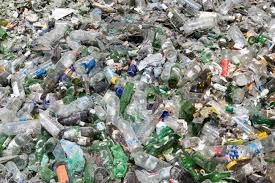glass: (102, 93, 121, 131), (188, 148, 219, 171), (1, 120, 44, 135), (117, 80, 137, 112)
plastic: (126, 147, 176, 178), (34, 107, 66, 139), (116, 116, 144, 152), (53, 51, 77, 73), (8, 76, 25, 105)
